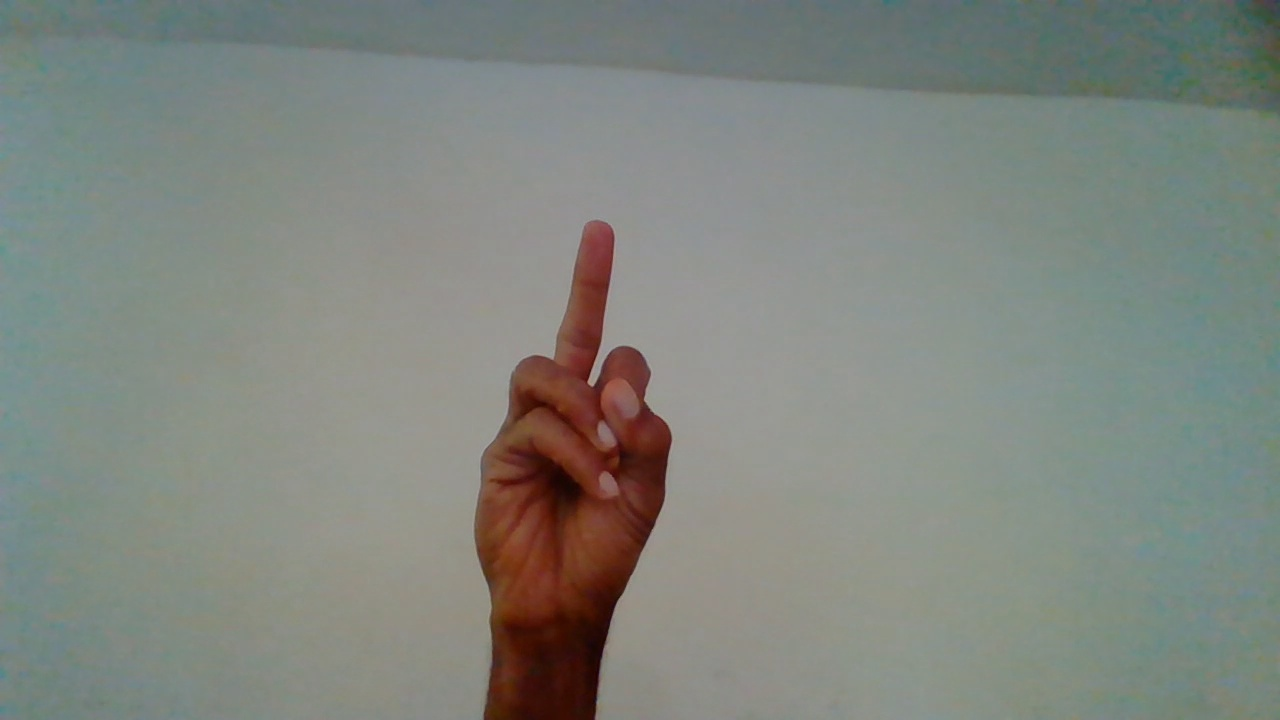he: (472, 216, 674, 720)
